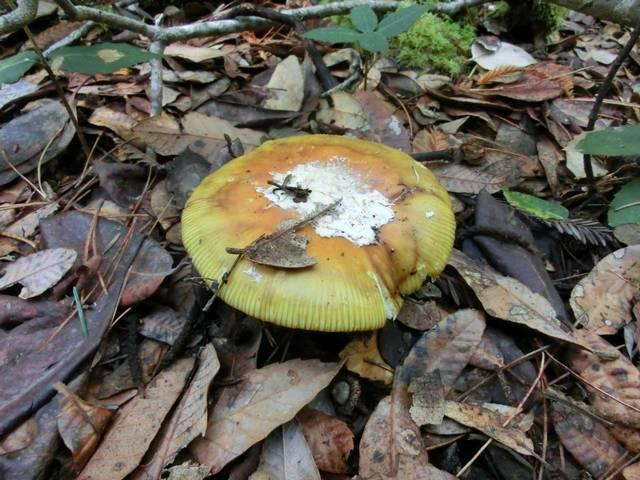Edible Mushroom: (179, 132, 457, 333)
